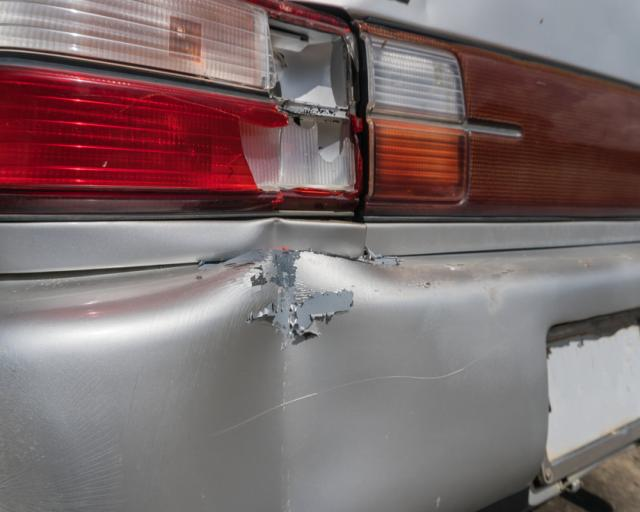dent: (244, 221, 359, 501)
